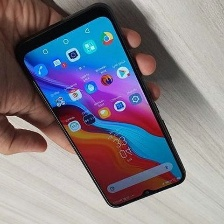phone: (9, 0, 190, 210)
